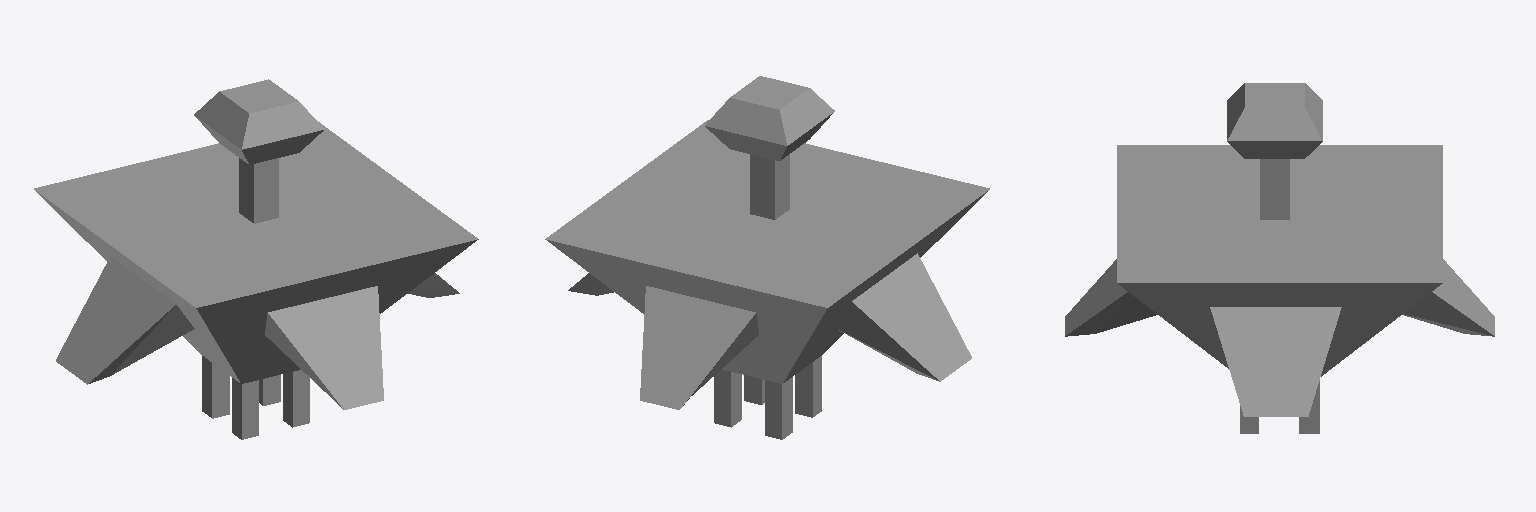
Rendered from nodeLinker.obj.
3 renders of one model, left to right at view 1: azimuth 30°, elevation 25°; view 2: azimuth 150°, elevation 25°; view 3: azimuth 270°, elevation 25°, orthographic.
Visible parts, largest first — view 1: Cube_Cube.001; view 2: Cube_Cube.001; view 3: Cube_Cube.001.
Boxes of the visible parts, box(x1,y1,x2,y2) form: Cube_Cube.001: box(34, 79, 478, 439); Cube_Cube.001: box(545, 76, 989, 439); Cube_Cube.001: box(1065, 83, 1494, 433).
Size of the model in its own units: 2.64 by 2.18 by 2.64.